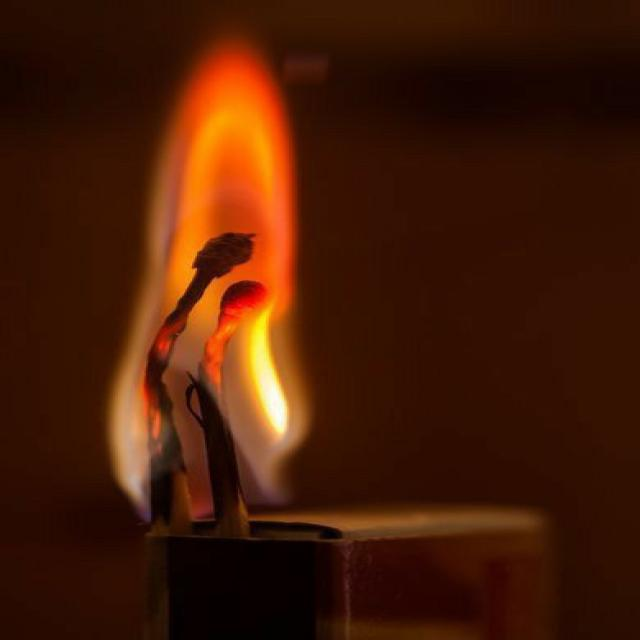fire: (112, 34, 304, 513)
